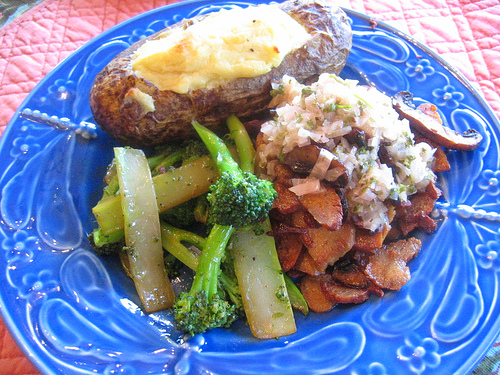broccoli: (191, 121, 279, 230), (170, 224, 235, 329), (160, 221, 231, 275)
